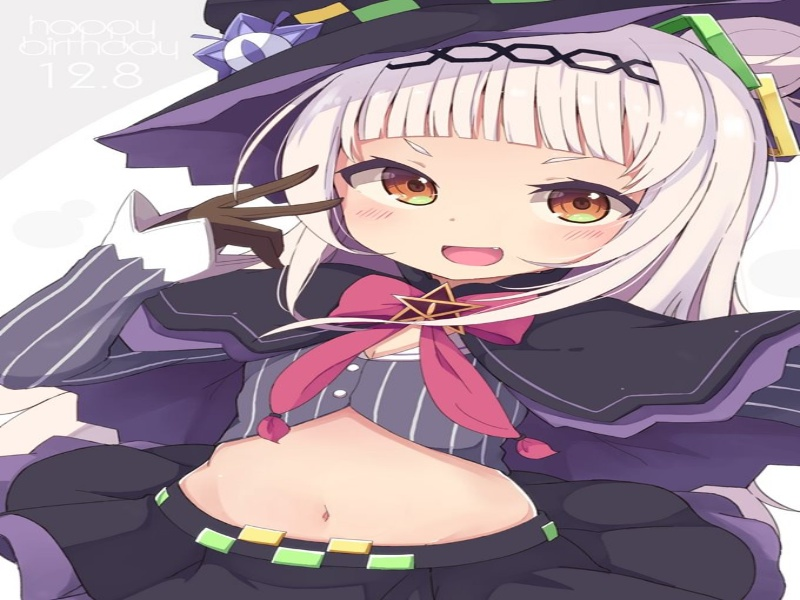person: (263, 20, 711, 294)
